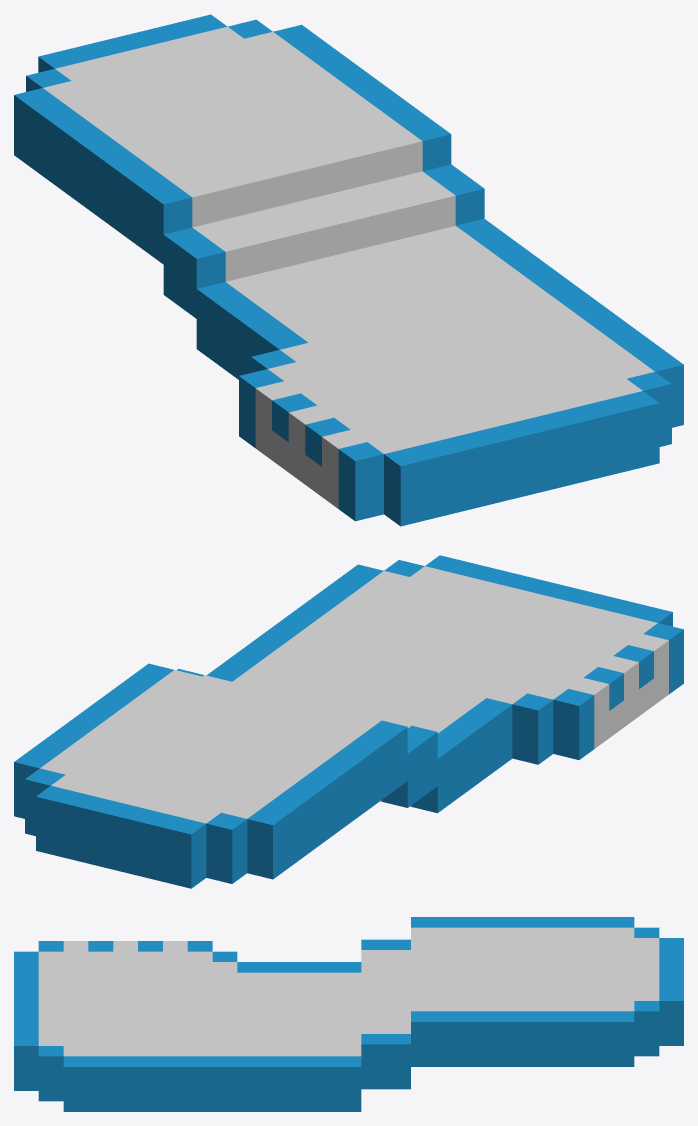
The model's file is PlatformRightUp.fbx.
The picture shows the model from 3 angles, top to bottom: view 1: azimuth 30°, elevation 25°; view 2: azimuth 150°, elevation 25°; view 3: azimuth 270°, elevation 25°; orthographic projection. The views are drawn at different scales.
Parts seen in each view (by area): view 1: Matrix_17; view 2: Matrix_17; view 3: Matrix_17.
Part boxes in pixels (left/top/right/bottom): Matrix_17: left=14, top=14, right=683, bottom=526; Matrix_17: left=14, top=555, right=683, bottom=888; Matrix_17: left=14, top=917, right=683, bottom=1111.
Bounding box in the file's own units: 12 × 4 × 27.
